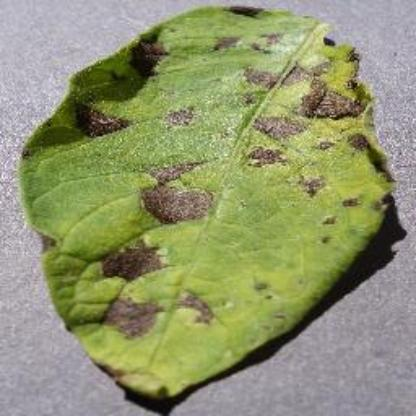Early-Blight: (18, 4, 396, 404)
